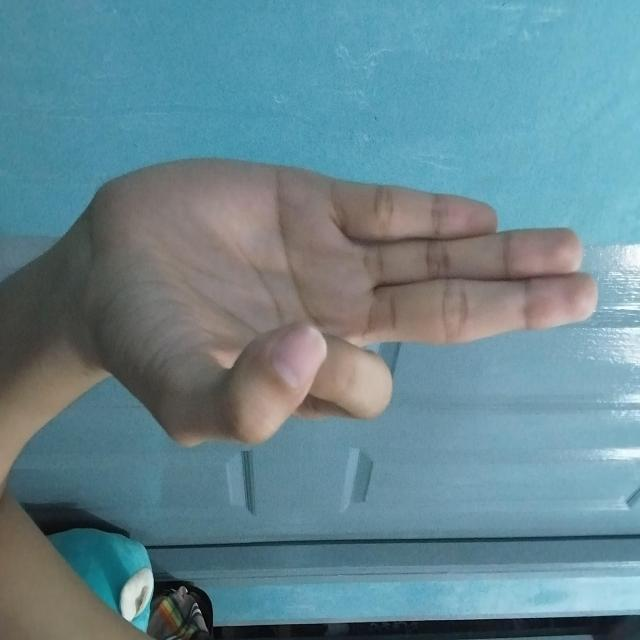F: (156, 46, 444, 549)
